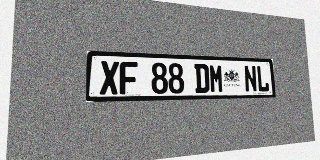8: (151, 62, 168, 94), (168, 63, 184, 93)
D: (194, 64, 210, 93)
F: (119, 61, 138, 94)
L: (256, 66, 269, 92)
M: (209, 64, 224, 93)
N: (244, 65, 257, 92)
X: (100, 61, 119, 95)
